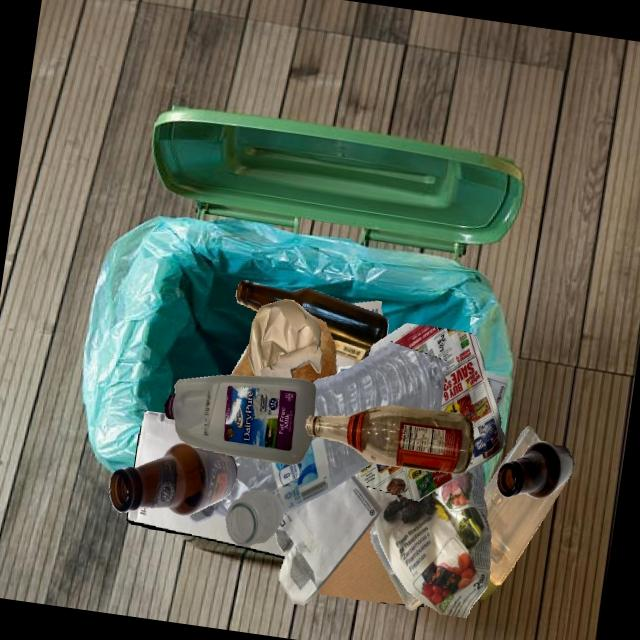biowaste: (292, 314, 336, 383), (231, 343, 255, 376), (477, 579, 500, 602)
cardboard: (316, 485, 424, 604)
glass: (236, 280, 388, 362), (305, 405, 473, 474), (109, 443, 237, 515), (497, 441, 574, 498), (226, 491, 283, 547)
paper: (354, 323, 505, 502), (368, 464, 491, 619), (275, 475, 383, 606), (351, 367, 486, 464), (126, 508, 285, 558), (248, 299, 323, 378), (134, 411, 188, 468), (336, 353, 359, 374), (351, 301, 383, 316)
plastic: (188, 436, 373, 523), (165, 375, 316, 465), (483, 426, 567, 586), (313, 342, 448, 416), (370, 525, 422, 610)
